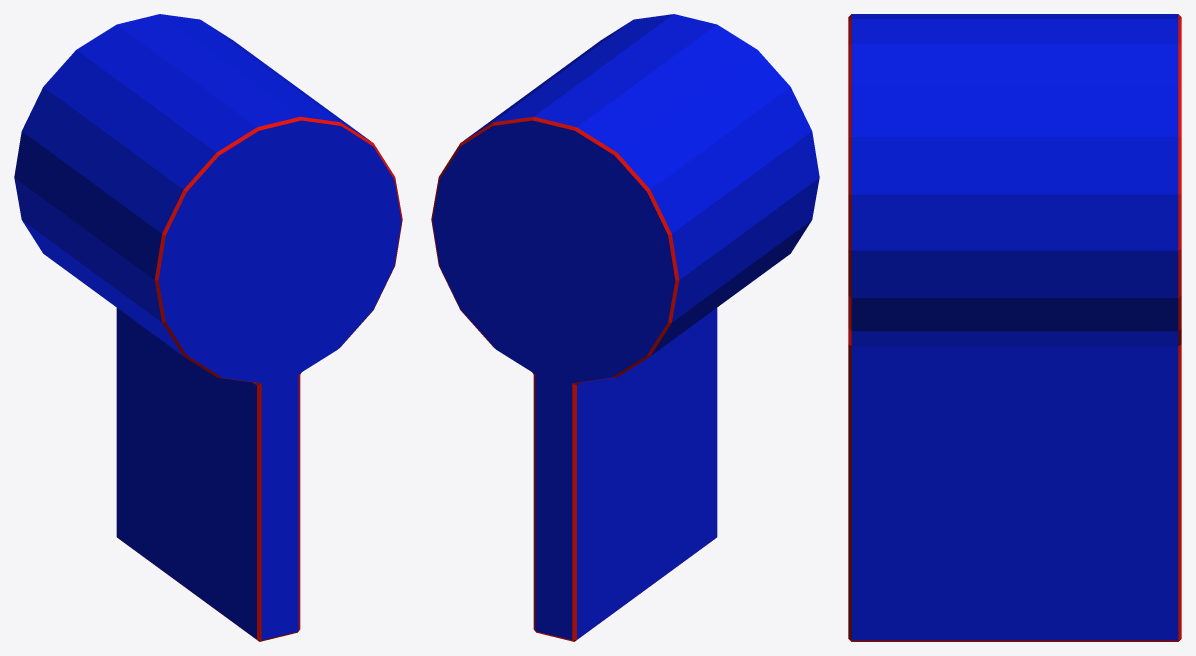
File: L9_Cylinder_Brigde.fbx
3 views of the same model, side by side, from view 1: azimuth 30°, elevation 25°; view 2: azimuth 150°, elevation 25°; view 3: azimuth 270°, elevation 25° (orthographic). The views are drawn at different scales.
Parts seen in each view (by area): view 1: L9_Cylinder_Brigde; view 2: L9_Cylinder_Brigde; view 3: L9_Cylinder_Brigde.
Boxes of the visible parts, left/top/right/bottom form: L9_Cylinder_Brigde: left=14, top=14, right=402, bottom=641; L9_Cylinder_Brigde: left=431, top=14, right=819, bottom=641; L9_Cylinder_Brigde: left=848, top=14, right=1181, bottom=641.
Size of the model in its own units: 500 by 992 by 500.
